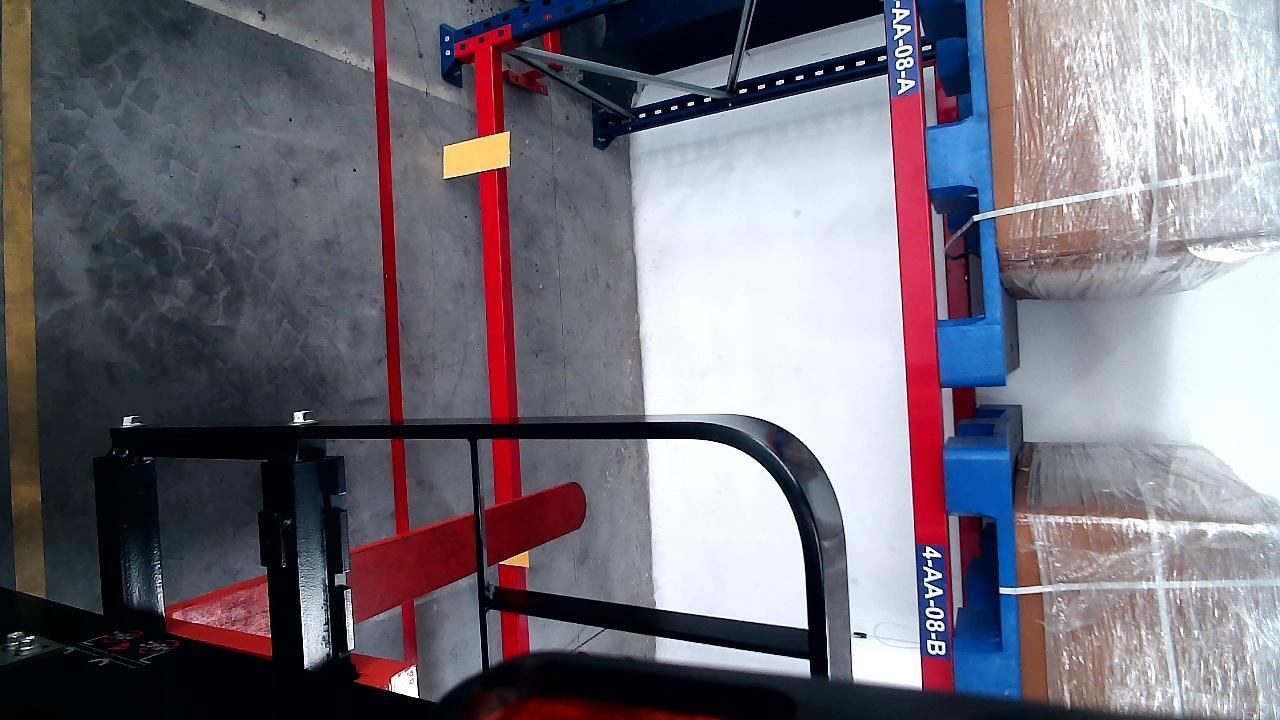h_rack: (885, 0, 950, 701), (470, 34, 521, 506)
orange_strip: (443, 133, 510, 178)
small_pallet: (923, 0, 1011, 380), (949, 448, 1017, 696)
yellow_line: (2, 7, 42, 602)
